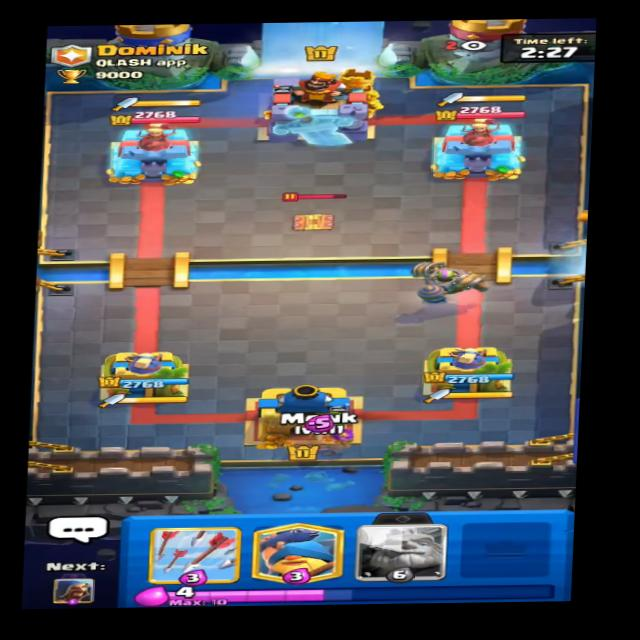tesla-closed: (271, 186, 359, 236)
